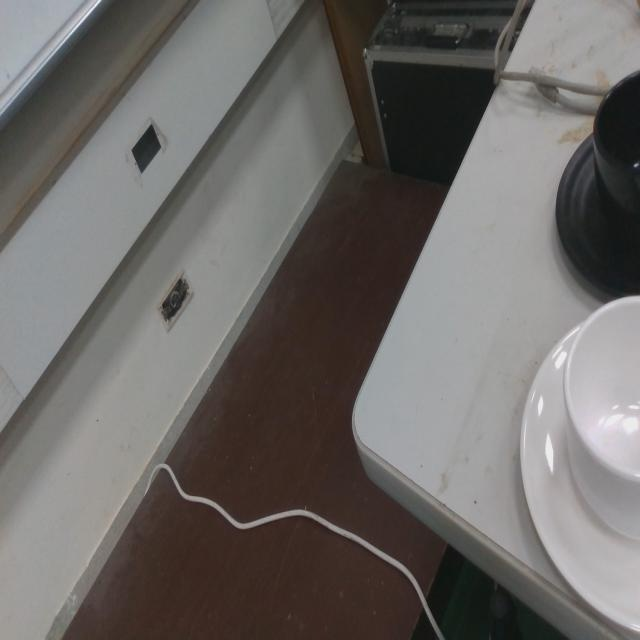black: (553, 63, 640, 298)
white: (517, 289, 640, 635)
